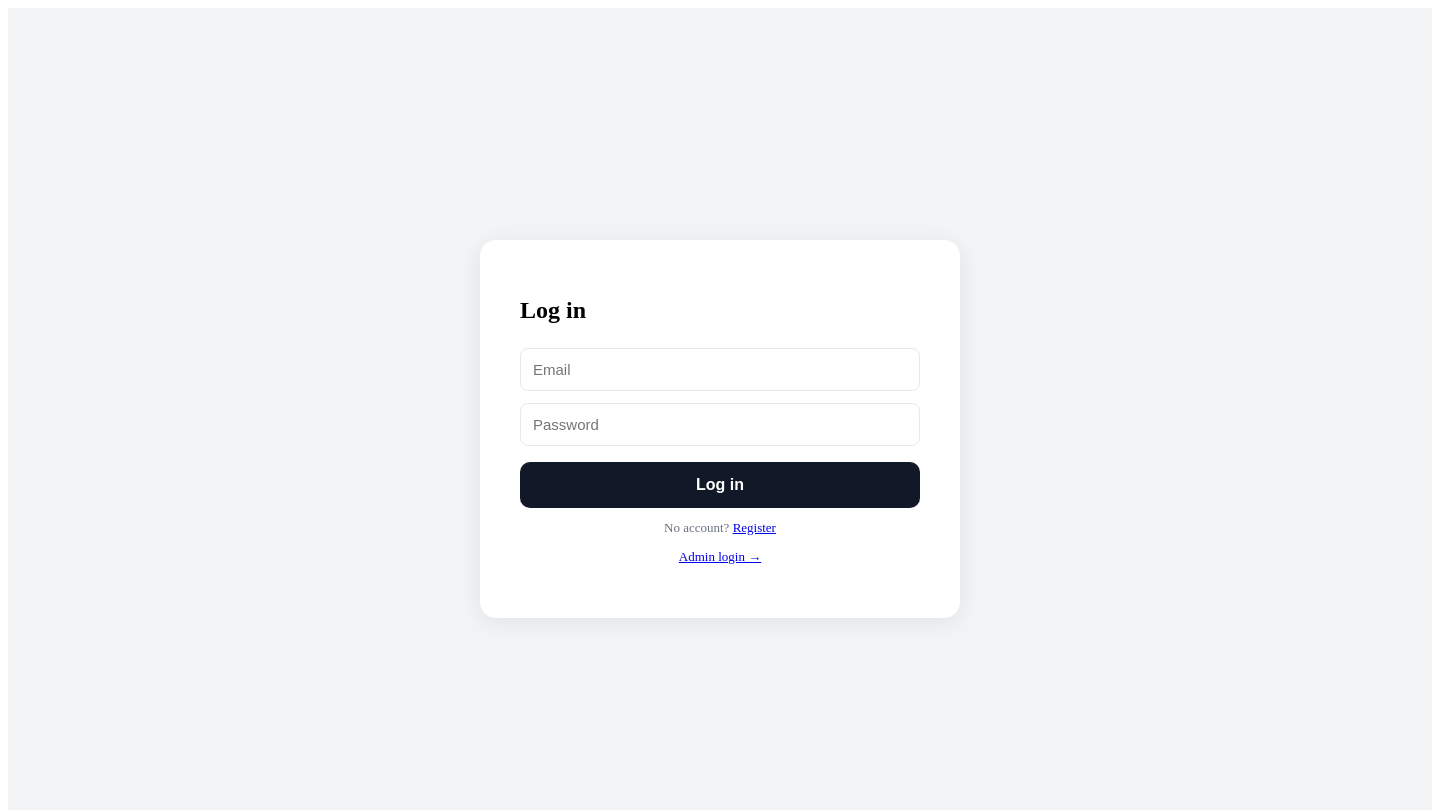
LoginPage › Pending / loading state › shows "Logging in…" text while pending
The width and height of the screenshot is (1440, 810).
Click the button "Log in" at x=720, y=484, box x1=520 y1=462 x2=920 y2=508
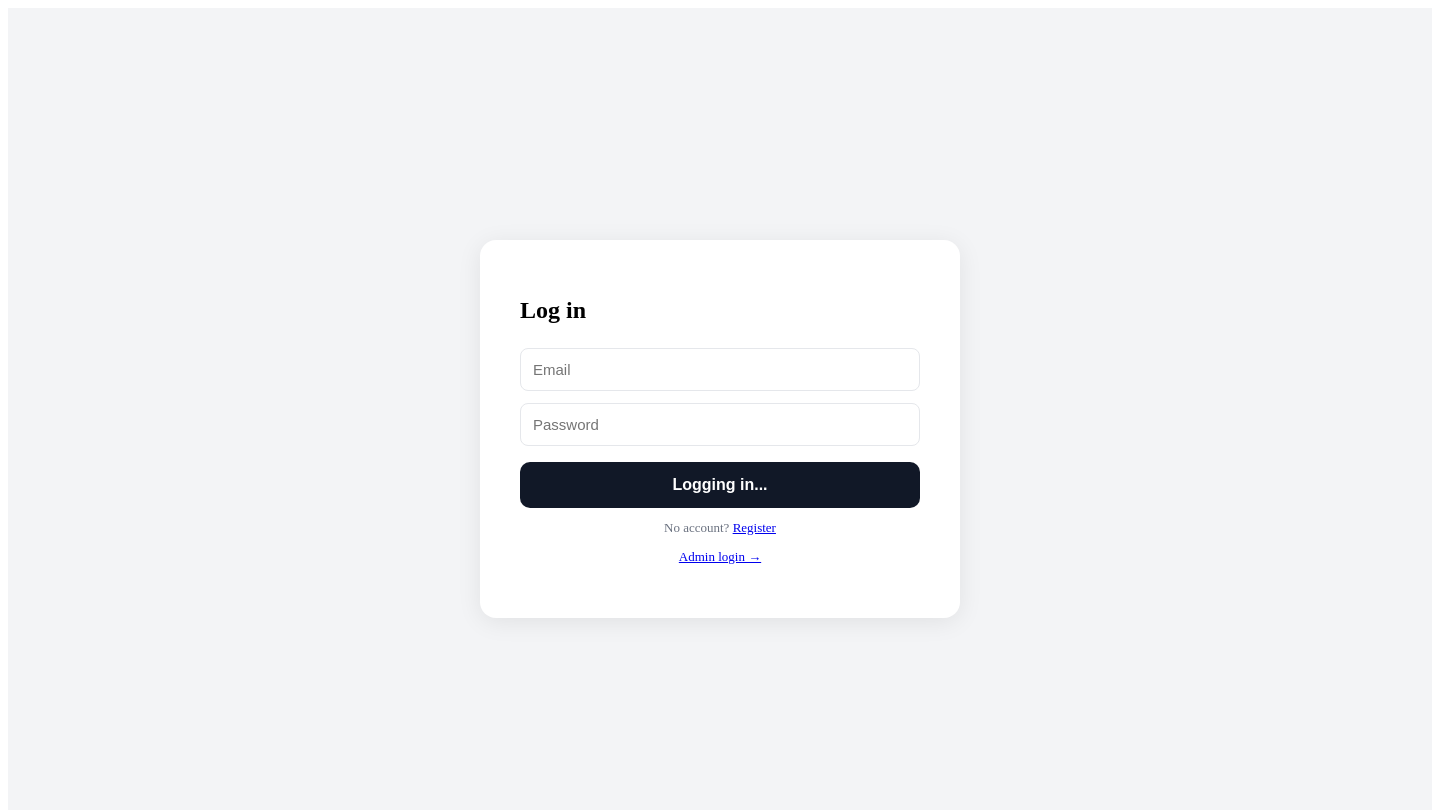
Expected: the button shows "Logging in", x1=520 y1=462 x2=920 y2=508
